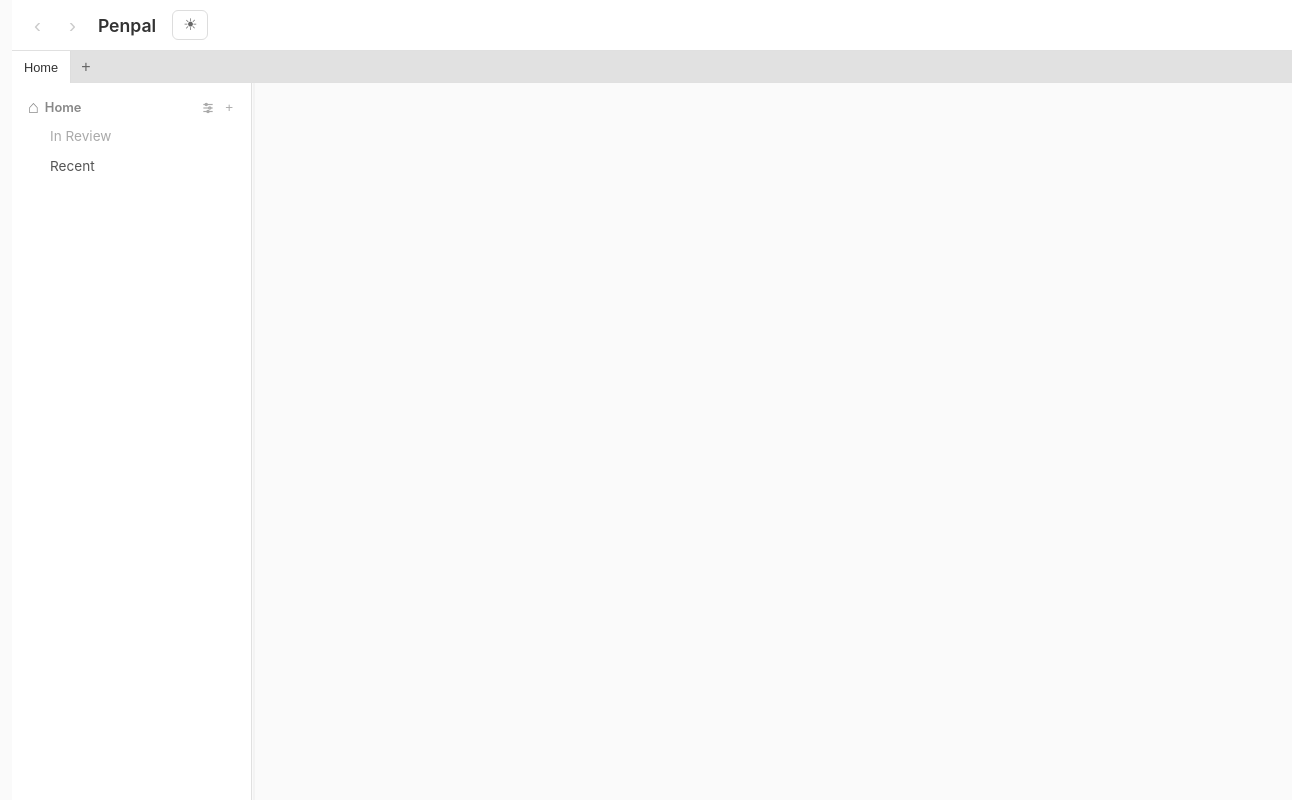
Layout › opens view options panel on click
The image size is (1292, 800).
Click the button named "View options": (208, 108) [199,101,217,115]
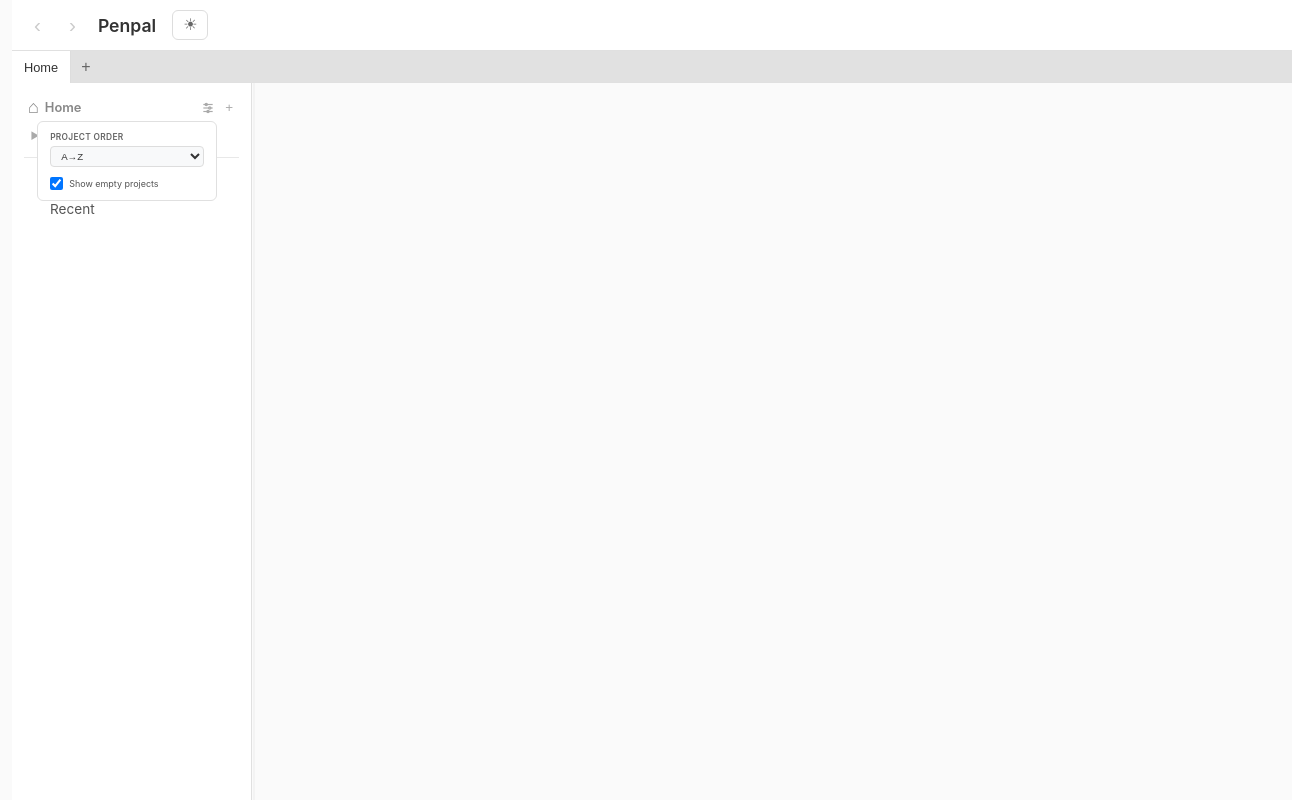
Result: the text "Project order" is shown at [50,132,204,167]
Result: the text "Show empty projects" is shown at [50,177,158,190]
